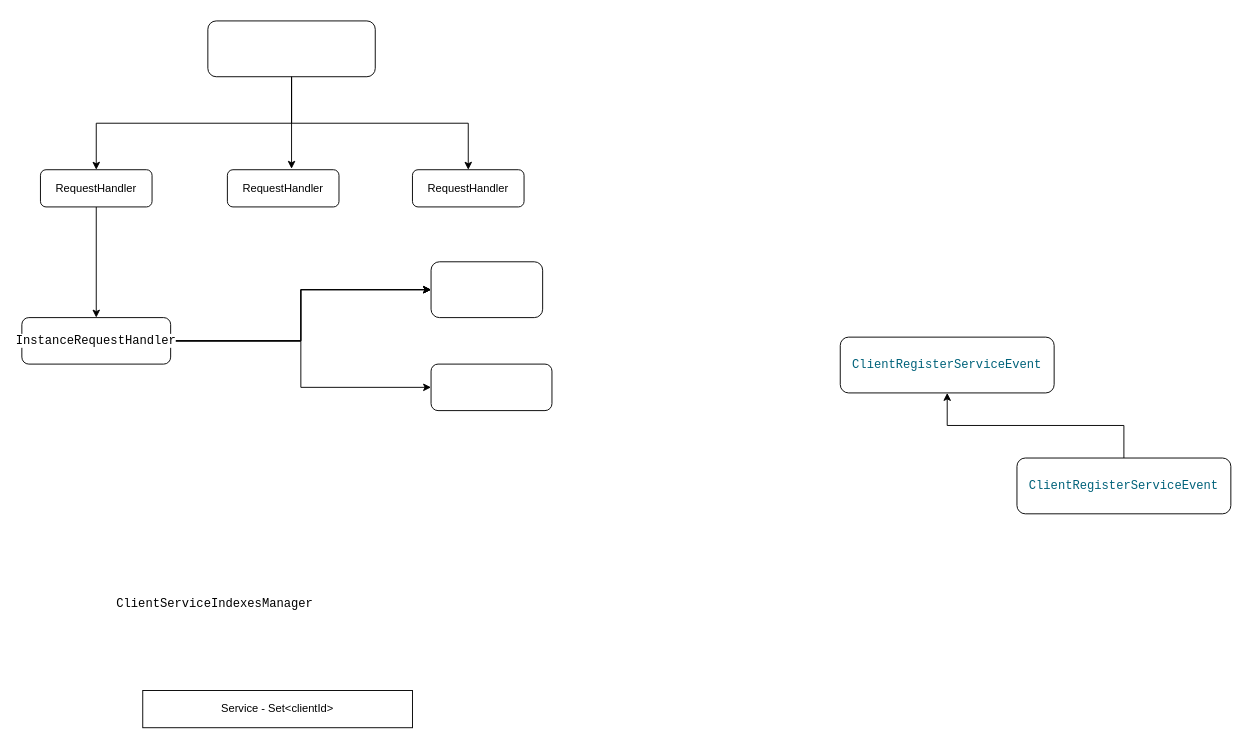
Image size: 1247x744. Some labels were removed from this diagram. Each missing label, with the centre of its shape:
GrpcRequestAcceptor 接受请求: point 291,48
服务注册: point 486,289
服务注销: point 491,387
